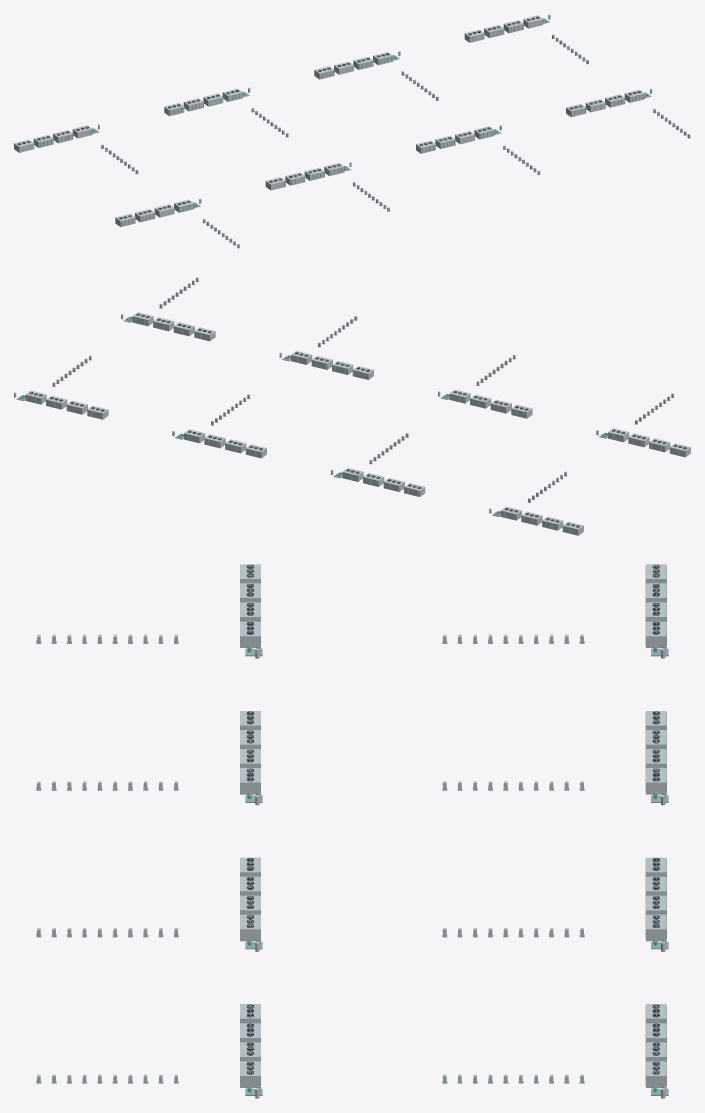
File: cooling.glb
The picture shows the model from 3 angles, top to bottom: view 1: azimuth 30°, elevation 25°; view 2: azimuth 150°, elevation 25°; view 3: azimuth 270°, elevation 25°; orthographic projection. The views are drawn at different scales.
Parts seen in each view (by area): view 1: cooling_white, cooling_metal, cooling_dark, cooling_steel-light; view 2: cooling_white, cooling_metal, cooling_dark, cooling_steel-light; view 3: cooling_white, cooling_metal, cooling_dark, cooling_steel-light.
Boxes of the visible parts, x1,y1,x2,y2 form: cooling_white: [14, 14, 690, 247]; cooling_metal: [18, 17, 690, 248]; cooling_dark: [18, 16, 689, 247]; cooling_steel-light: [18, 17, 640, 219]; cooling_white: [14, 277, 690, 535]; cooling_metal: [16, 281, 685, 534]; cooling_dark: [29, 313, 686, 527]; cooling_steel-light: [29, 314, 686, 527]; cooling_white: [37, 564, 666, 1098]; cooling_metal: [36, 565, 668, 1095]; cooling_dark: [36, 565, 659, 1081]; cooling_steel-light: [246, 564, 660, 1074].
Size of the model in its own units: 357 by 4.46 by 182.
